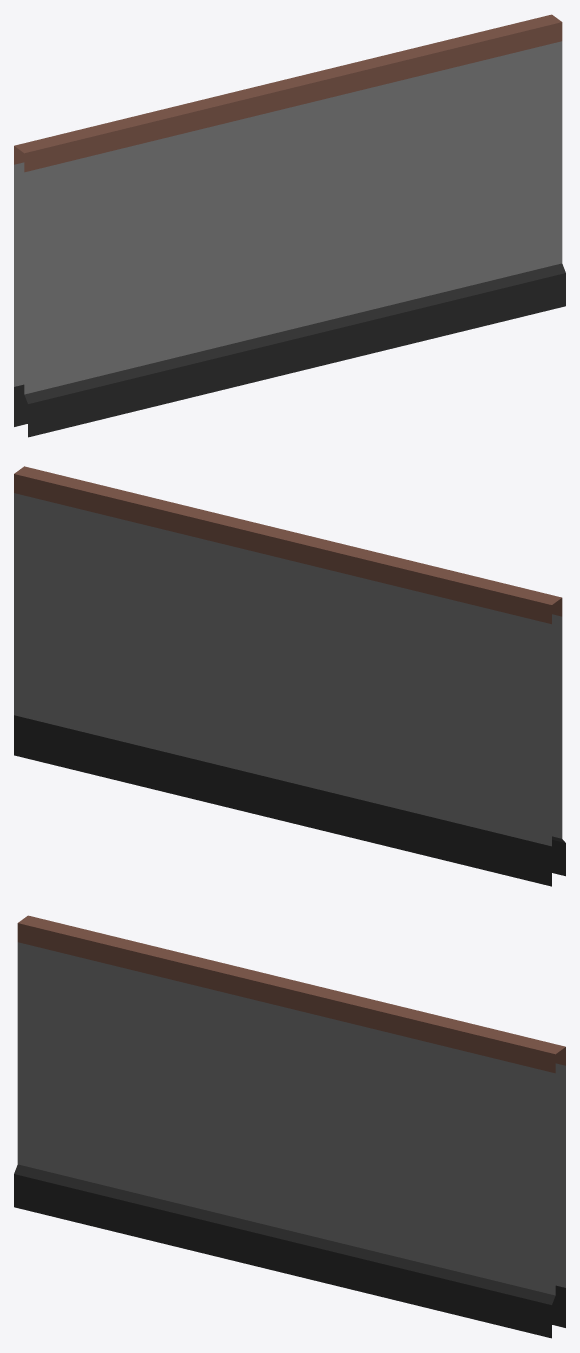
The model's file is Wall222.fbx.
3 views of the same model, one above another, from view 1: azimuth 30°, elevation 25°; view 2: azimuth 150°, elevation 25°; view 3: azimuth 330°, elevation 25° (orthographic).
Parts seen in each view (by area): view 1: Box011; view 2: Box011; view 3: Box011.
Part boxes in pixels (<box>): Box011: <box>14,14,565,437</box>; Box011: <box>14,466,565,886</box>; Box011: <box>14,915,565,1338</box>.
Size of the model in its own units: 600 by 300 by 27.18.
